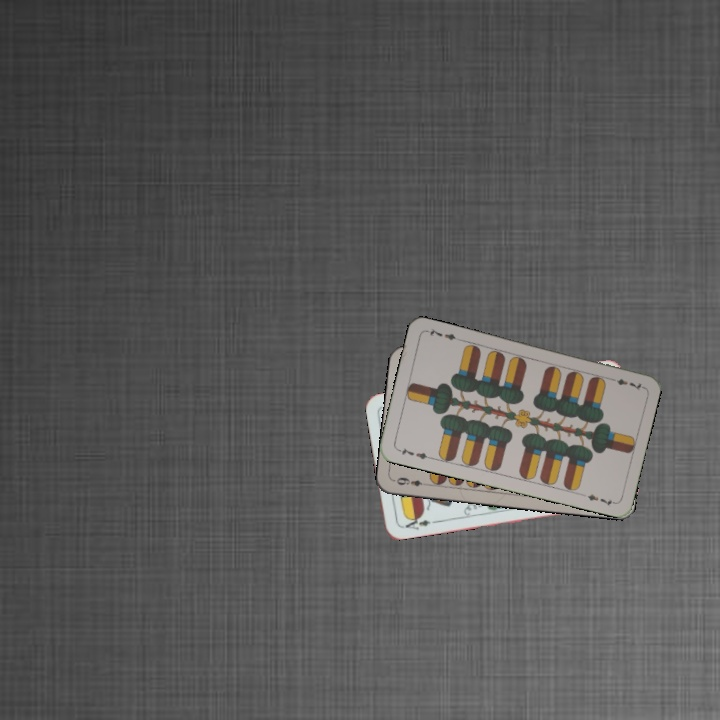E7: (605, 373, 645, 393), (393, 443, 433, 462)
E9: (391, 473, 431, 489)
EA: (398, 512, 433, 533)
